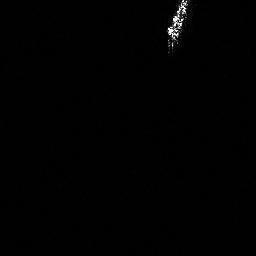ship: (158, 1, 196, 47)
